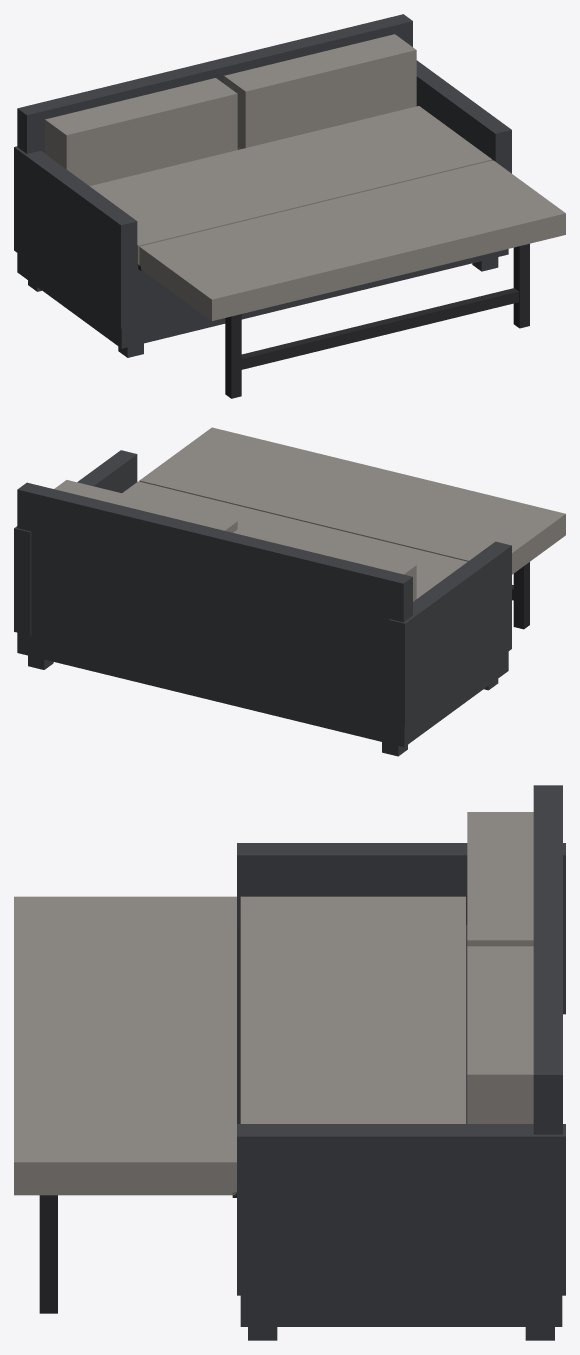
Rendered from FN_Sofa_Bed.glb.
The picture shows the model from 3 angles, top to bottom: view 1: azimuth 30°, elevation 25°; view 2: azimuth 150°, elevation 25°; view 3: azimuth 270°, elevation 25°; orthographic projection. The views are drawn at different scales.
Visible parts, largest first — view 1: FN_Sofa_Bed; view 2: FN_Sofa_Bed; view 3: FN_Sofa_Bed.
Part boxes in pixels (x1=…): FN_Sofa_Bed: x1=14, y1=14, x2=565, y2=398; FN_Sofa_Bed: x1=14, y1=427, x2=565, y2=756; FN_Sofa_Bed: x1=14, y1=785, x2=565, y2=1340.
Bounding box in the file's own units: 1.9 × 0.82 × 1.51.
Materials: 1 (1 with a texture image).
